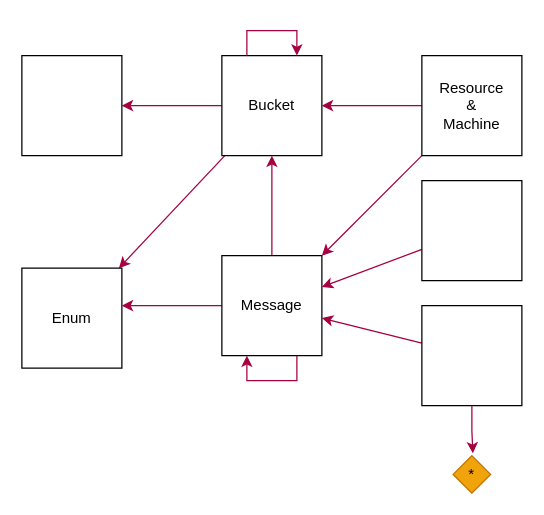
The diagram is 544 pixels wide and 515 high, and some of its shapes have lost their labels. The box of each missing label's shape, as (x1, y1, x2, y2) in pixels:
Job: (421, 304, 522, 406)
Queue & Topic: (421, 179, 522, 281)
Value: (21, 54, 122, 156)
